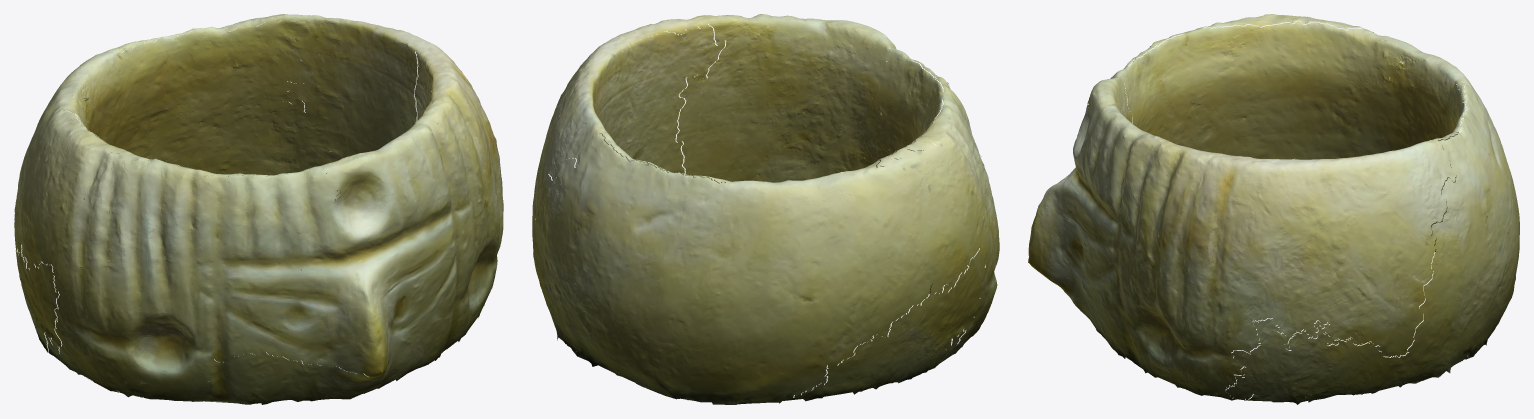
The picture shows the model from 3 angles, left to right: view 1: azimuth 30°, elevation 25°; view 2: azimuth 150°, elevation 25°; view 3: azimuth 270°, elevation 25°; orthographic projection. The views are drawn at different scales.
Parts seen in each view (by area): view 1: Mesh_1.002; view 2: Mesh_1.002; view 3: Mesh_1.002.
Boxes of the visible parts, left/top/right/bottom form: Mesh_1.002: left=14, top=14, right=503, bottom=404; Mesh_1.002: left=532, top=14, right=999, bottom=404; Mesh_1.002: left=1028, top=14, right=1519, bottom=404.
Bounding box in the file's own units: 0.1674 × 0.089 × 0.171.
Materials: 2 (2 with a texture image).
